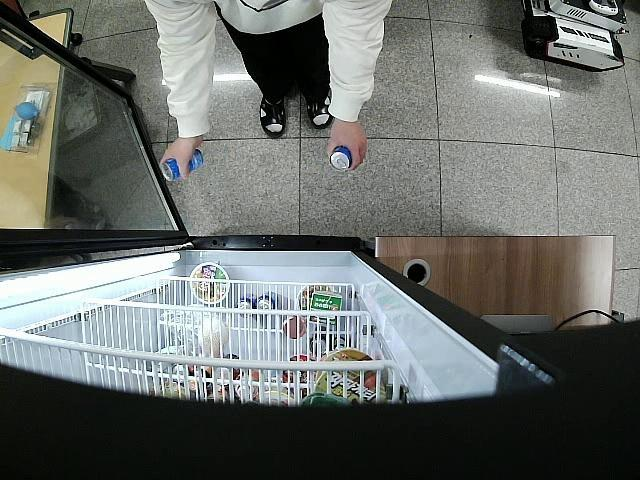15_letsbe: (163, 150, 202, 179), (330, 144, 354, 172)
